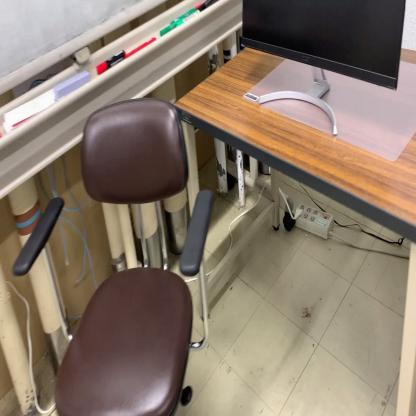chair: (11, 93, 214, 416)
